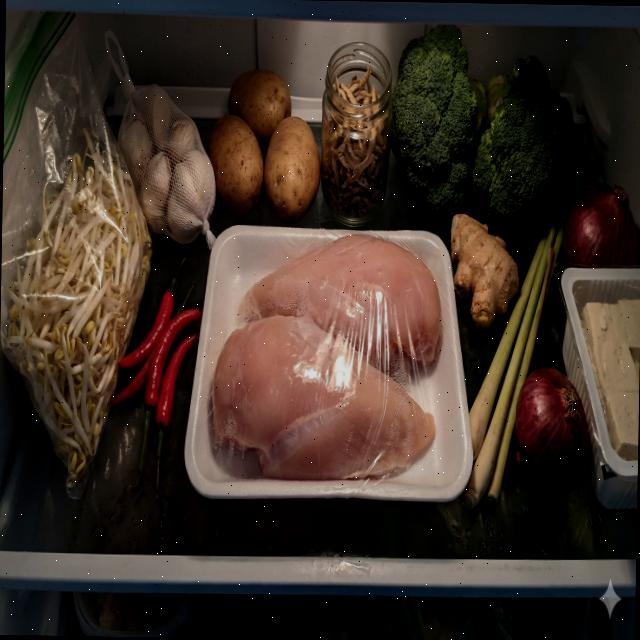anchovies: (321, 64, 389, 216)
bean_sprouts: (0, 125, 155, 491)
brocolli: (388, 22, 576, 234)
chicken: (210, 230, 443, 482)
chili: (110, 250, 202, 500)
garlic: (115, 81, 217, 246)
ginger: (448, 212, 521, 333)
lemongrass: (463, 128, 602, 512)
onion: (516, 367, 594, 499), (563, 184, 637, 270)
potato: (204, 67, 324, 225)
tofu: (578, 297, 640, 461)
